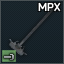MPX double latch charging handle: (0, 0, 64, 64)
